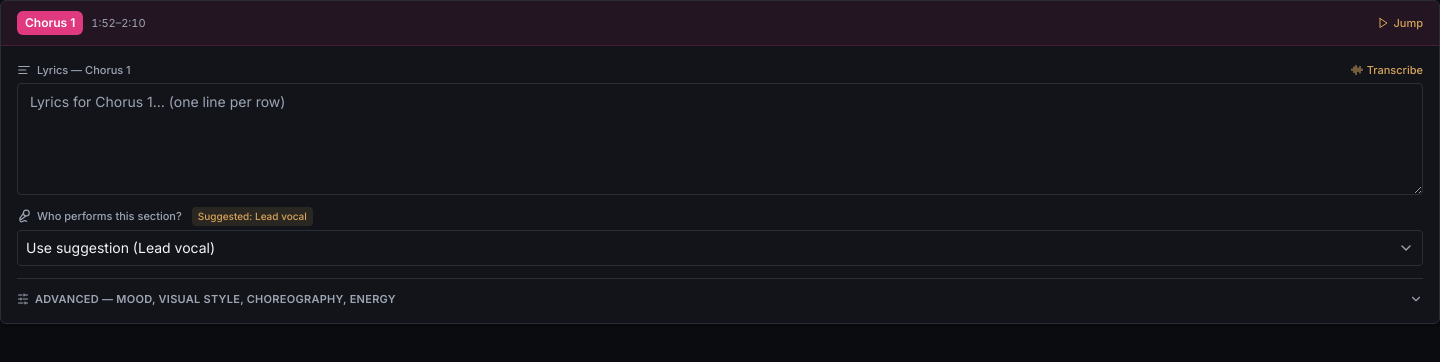
Test: SectionEditor transcription › tells the user to check what it wrote
Click the button "Transcribe": coordinates (1387, 70) [1351,62,1423,78]
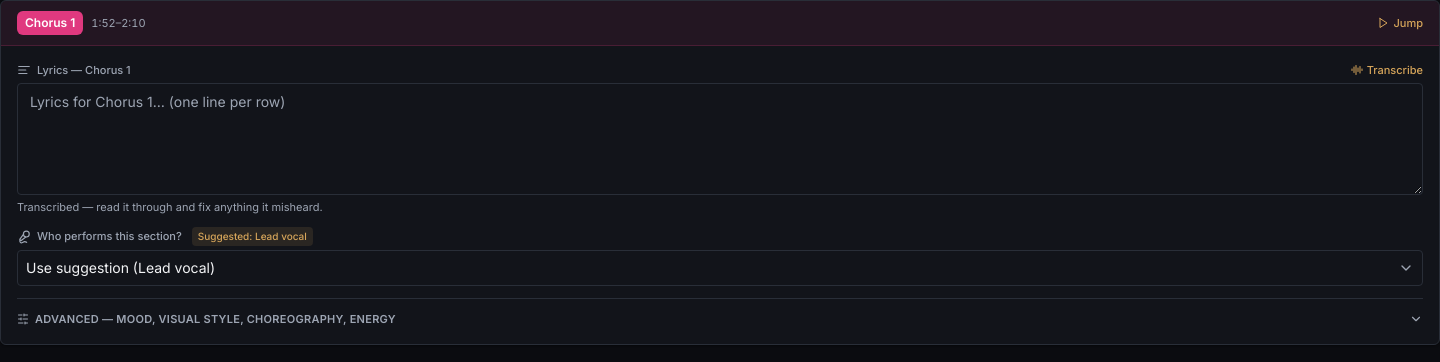
Expected: the text "Transcribed — read it through and fix anything it misheard." is shown, [17,200,322,214]
